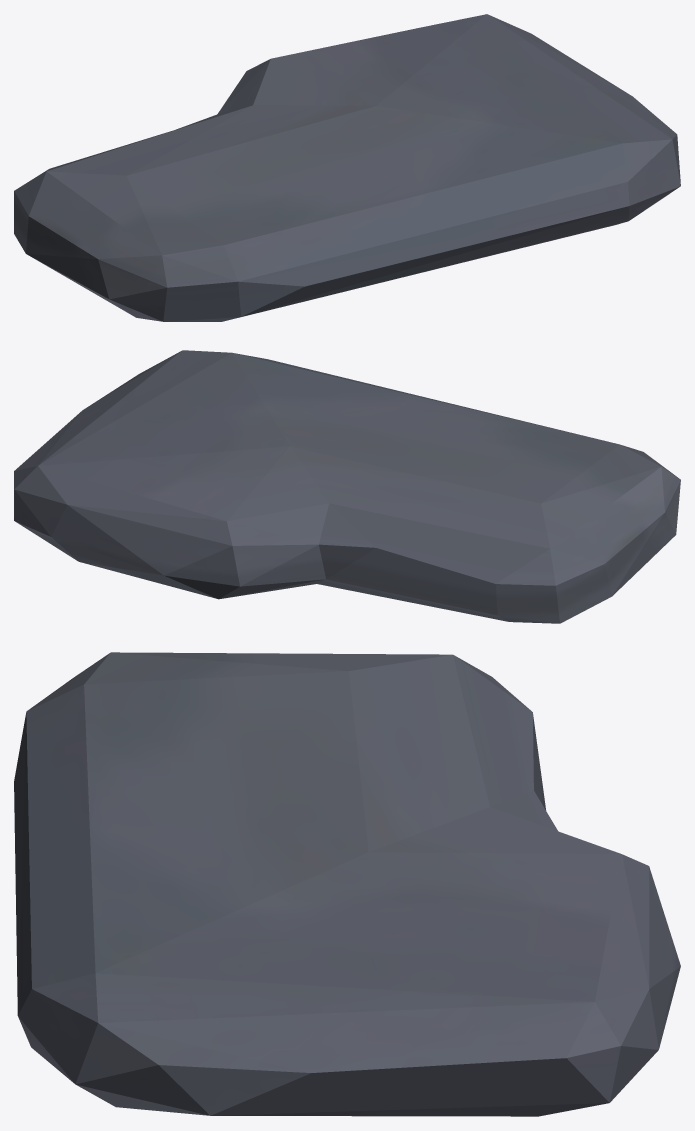
The model's file is piedra2Dani.fbx.
The picture shows the model from 3 angles, top to bottom: view 1: azimuth 30°, elevation 25°; view 2: azimuth 150°, elevation 25°; view 3: azimuth 270°, elevation 25°; orthographic projection. The views are drawn at different scales.
Parts seen in each view (by area): view 1: Cube; view 2: Cube; view 3: Cube.
Boxes of the visible parts, x1,y1,x2,y2 form: Cube: [14, 14, 680, 321]; Cube: [14, 350, 680, 623]; Cube: [14, 652, 680, 1116].
Size of the model in its own units: 3.6 by 0.5575 by 2.43.
